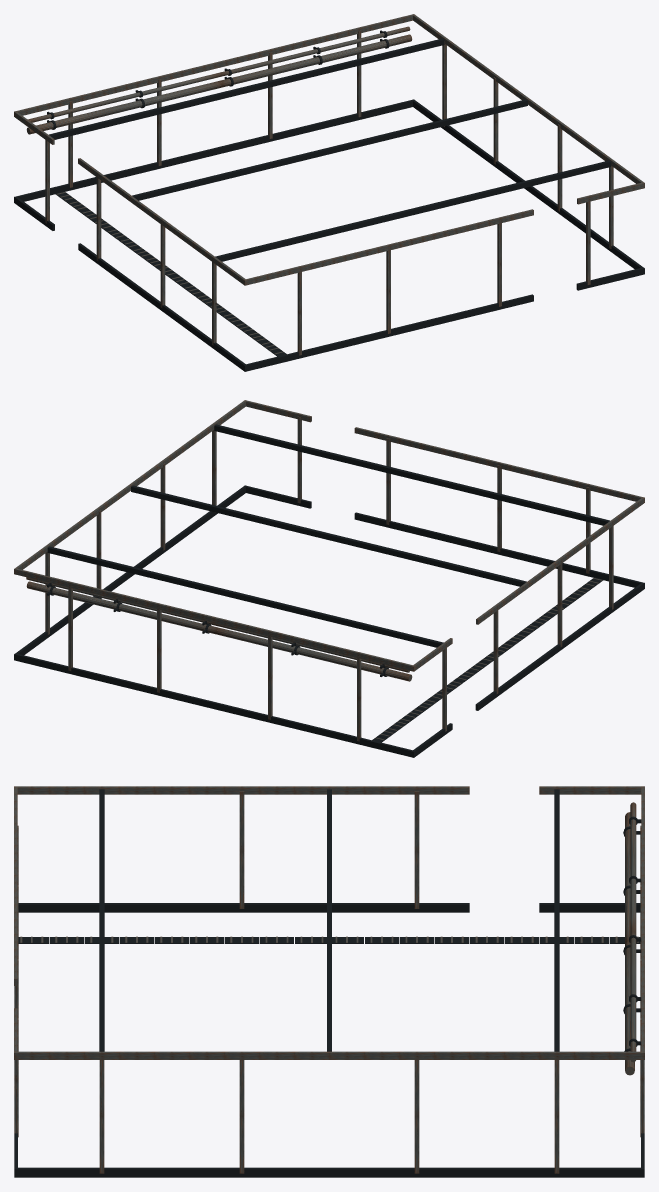
The model's file is ServiceStructure03.obj.
The picture shows the model from 3 angles, top to bottom: view 1: azimuth 30°, elevation 25°; view 2: azimuth 150°, elevation 25°; view 3: azimuth 270°, elevation 25°; orthographic projection. The views are drawn at different scales.
Visible parts, largest first — view 1: ServiceStructure03; view 2: ServiceStructure03; view 3: ServiceStructure03.
Part boxes in pixels (box(x1,y1,x2,y2)): ServiceStructure03: box(14, 14, 644, 371); ServiceStructure03: box(14, 400, 644, 757); ServiceStructure03: box(14, 786, 644, 1177).
Bounding box in the file's own units: 18.02 × 3.93 × 18.02.
3 materials, 2 textured.
